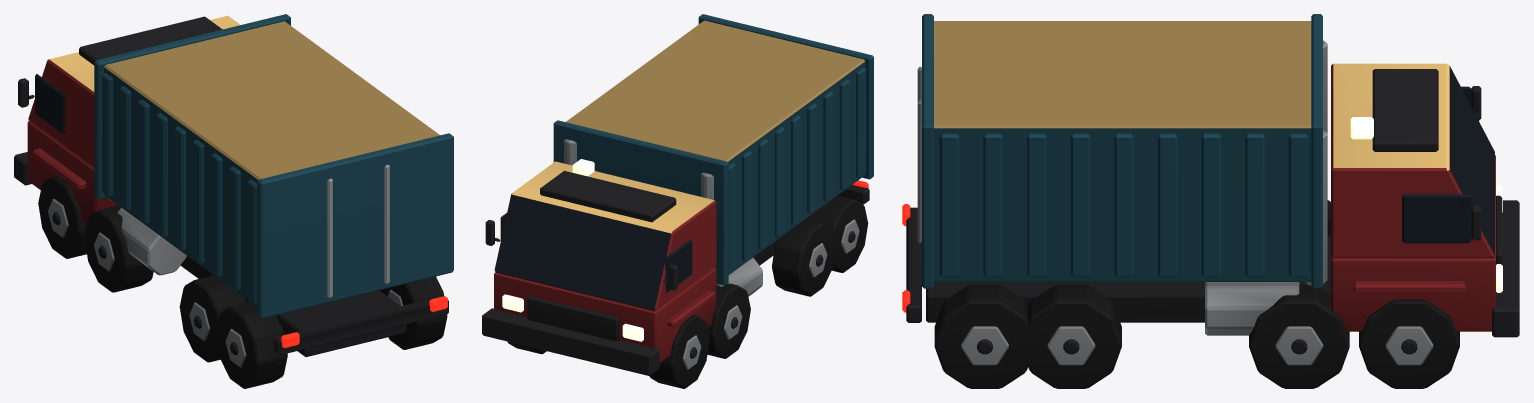
File: trade_truck.glb
3 views of the same model, side by side, from view 1: azimuth 30°, elevation 25°; view 2: azimuth 150°, elevation 25°; view 3: azimuth 270°, elevation 25° (orthographic). The views are drawn at different scales.
Visible parts, largest first — view 1: trade_truck; view 2: trade_truck; view 3: trade_truck.
Part boxes in pixels (x1,y1,x2,y2): trade_truck: [14, 14, 453, 388]; trade_truck: [482, 14, 873, 388]; trade_truck: [902, 14, 1519, 388].
Size of the model in its own units: 0.75 by 0.7436 by 1.57.
